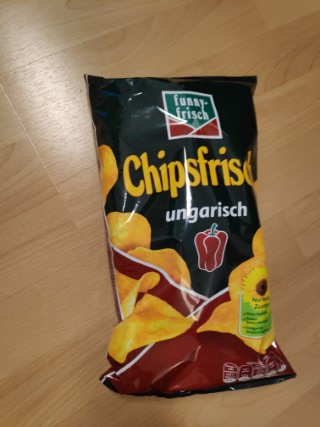chipsfrisch: (81, 70, 298, 399)
